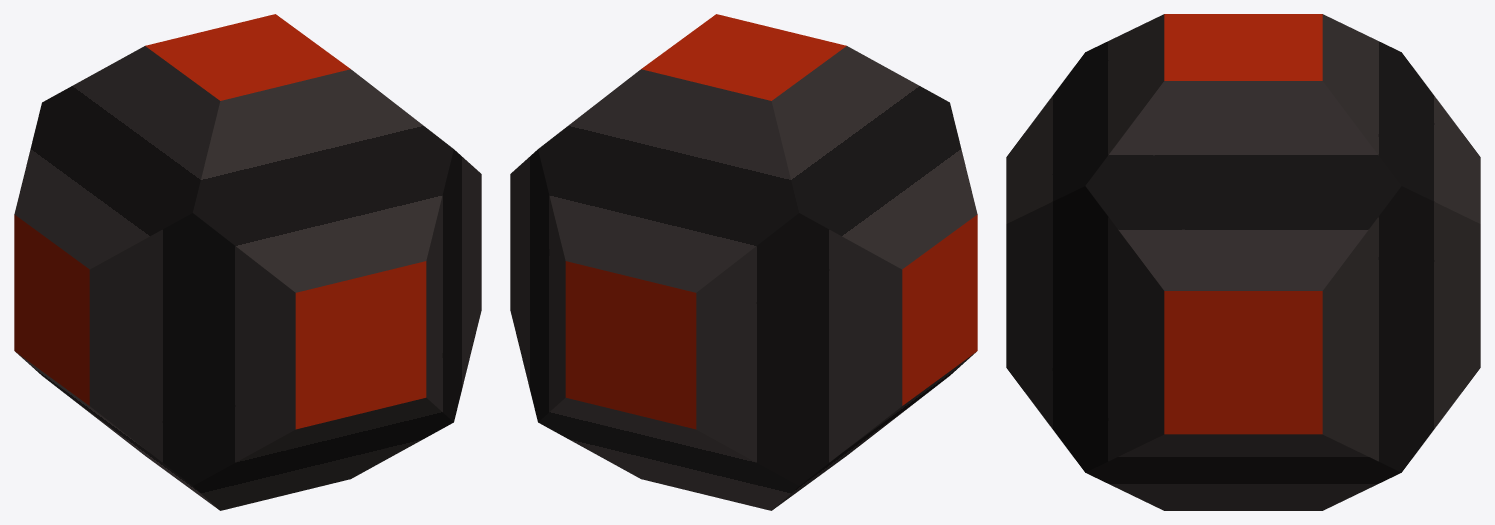
Rendered from roller.gltf.
The picture shows the model from 3 angles, left to right: view 1: azimuth 30°, elevation 25°; view 2: azimuth 150°, elevation 25°; view 3: azimuth 270°, elevation 25°; orthographic projection. The views are drawn at different scales.
Visible parts, largest first — view 1: cuboid; view 2: cuboid; view 3: cuboid.
Part boxes in pixels (x1=…): cuboid: x1=14, y1=14, x2=481, y2=510; cuboid: x1=510, y1=14, x2=977, y2=510; cuboid: x1=1006, y1=14, x2=1480, y2=510.
Bounding box in the file's own units: 0.375 × 0.375 × 0.375.
Materials: 1 (1 with a texture image).
